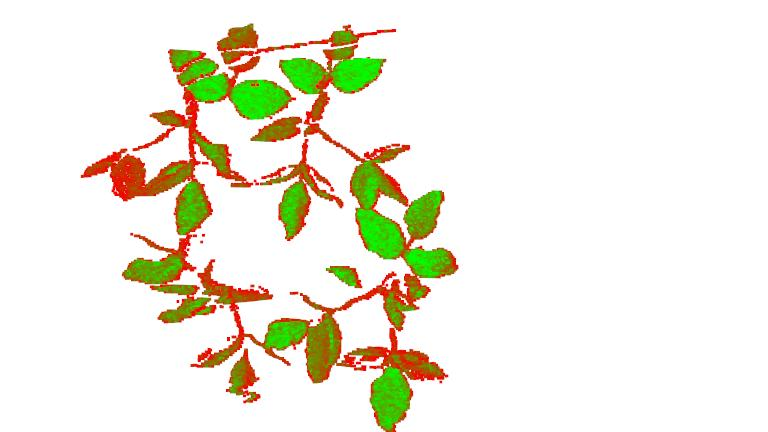mungbean: (255, 189, 459, 432), (74, 22, 261, 234), (269, 24, 407, 236), (104, 237, 272, 408)
